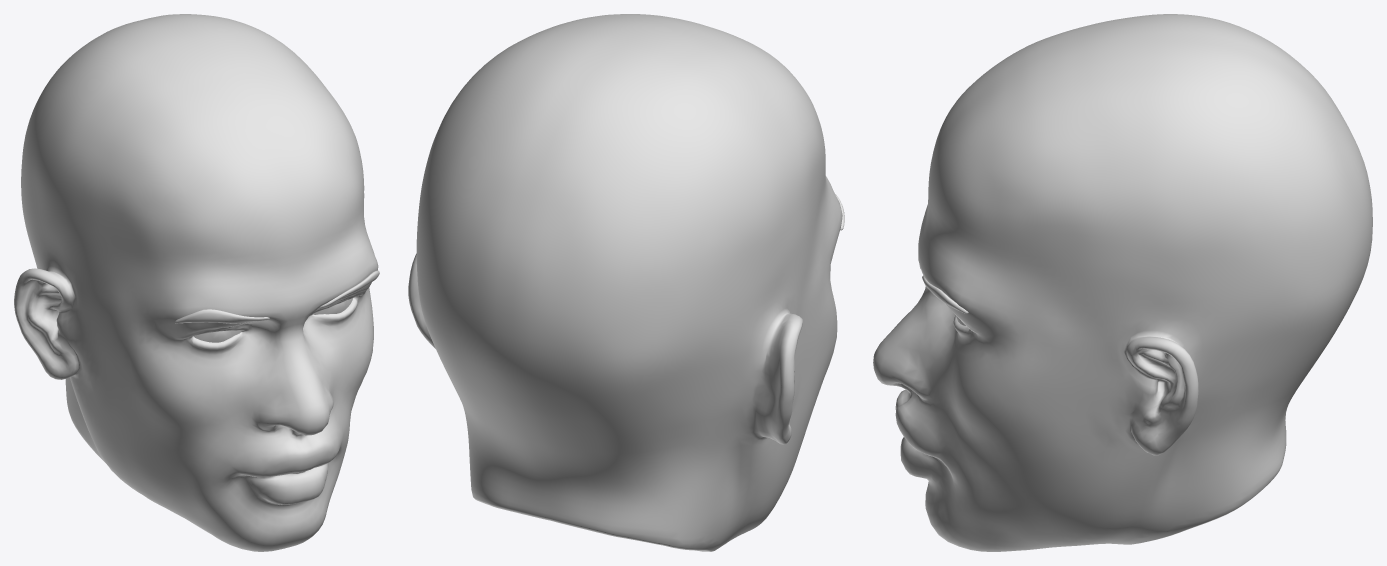
File: Male head 1.glb
The picture shows the model from 3 angles, left to right: view 1: azimuth 30°, elevation 25°; view 2: azimuth 150°, elevation 25°; view 3: azimuth 270°, elevation 25°; orthographic projection. The views are drawn at different scales.
Parts seen in each view (by area): view 1: male_head_1.1; view 2: male_head_1.1; view 3: male_head_1.1.
Boxes of the visible parts, box(x1,y1,x2,y2) form: male_head_1.1: box(14, 14, 379, 551); male_head_1.1: box(408, 14, 844, 551); male_head_1.1: box(873, 14, 1372, 551).
Bounding box in the file's own units: 0.0372 × 0.0495 × 0.0446.
Materials: 1 (1 with a texture image).
